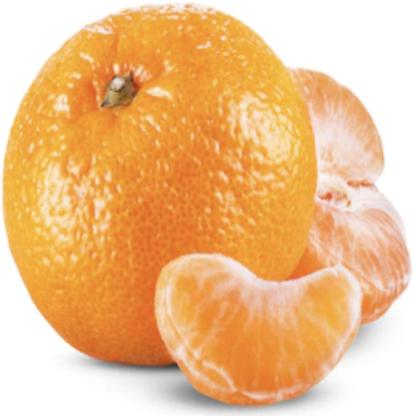fresh: (5, 7, 408, 404)
